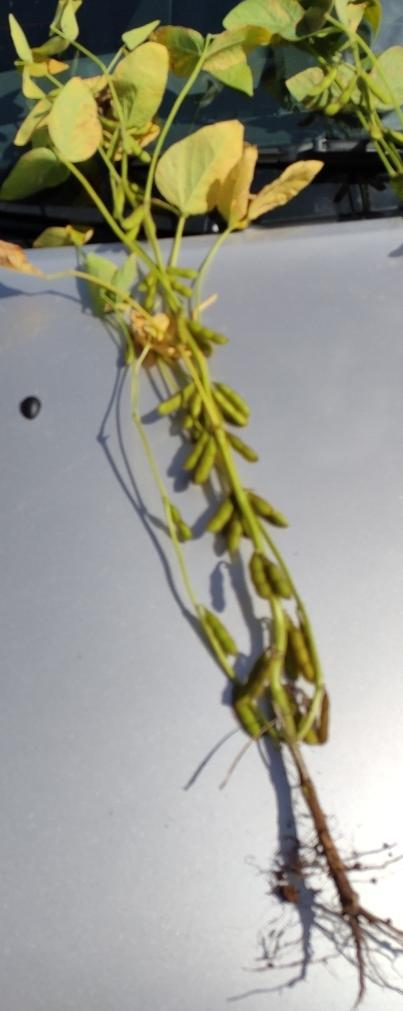soja: (233, 553, 275, 602), (231, 695, 270, 742), (208, 389, 250, 431), (193, 435, 225, 490), (250, 491, 294, 530), (321, 73, 363, 113), (202, 611, 240, 655), (210, 378, 251, 415), (186, 312, 230, 346), (176, 396, 208, 442), (154, 380, 198, 413), (291, 627, 317, 682), (225, 425, 262, 462), (177, 430, 210, 471), (307, 63, 340, 103), (124, 130, 159, 165), (159, 258, 206, 284), (164, 505, 195, 541), (269, 553, 292, 601), (206, 499, 236, 534), (364, 69, 392, 105), (223, 514, 246, 556), (123, 204, 155, 234), (164, 270, 195, 300), (318, 679, 331, 745), (176, 306, 194, 352), (146, 277, 159, 312), (302, 727, 321, 750)
